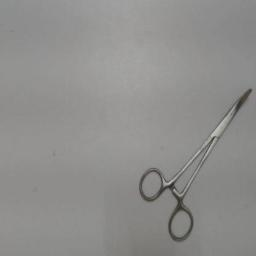Crile Artery Forceps: (135, 80, 255, 246)
